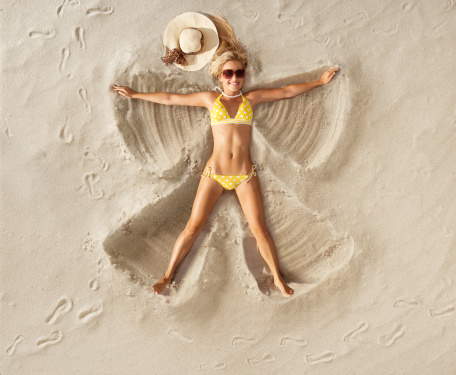deitado: (128, 24, 319, 312)
